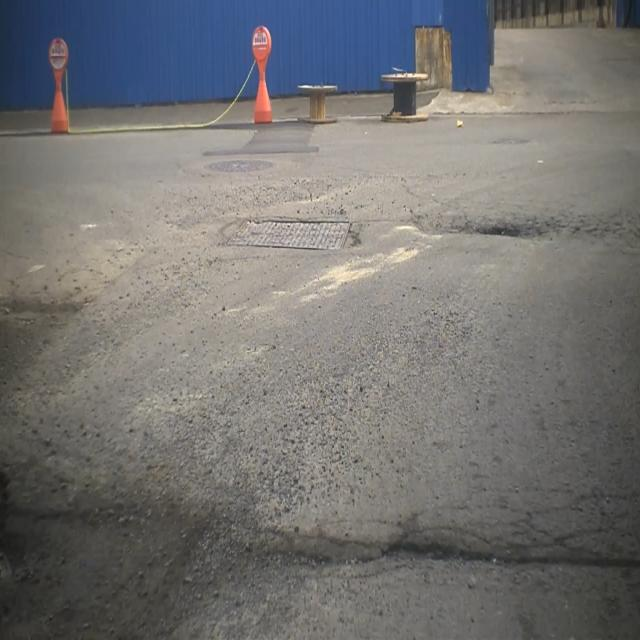Pothole: (377, 523, 640, 581), (419, 210, 609, 247)
